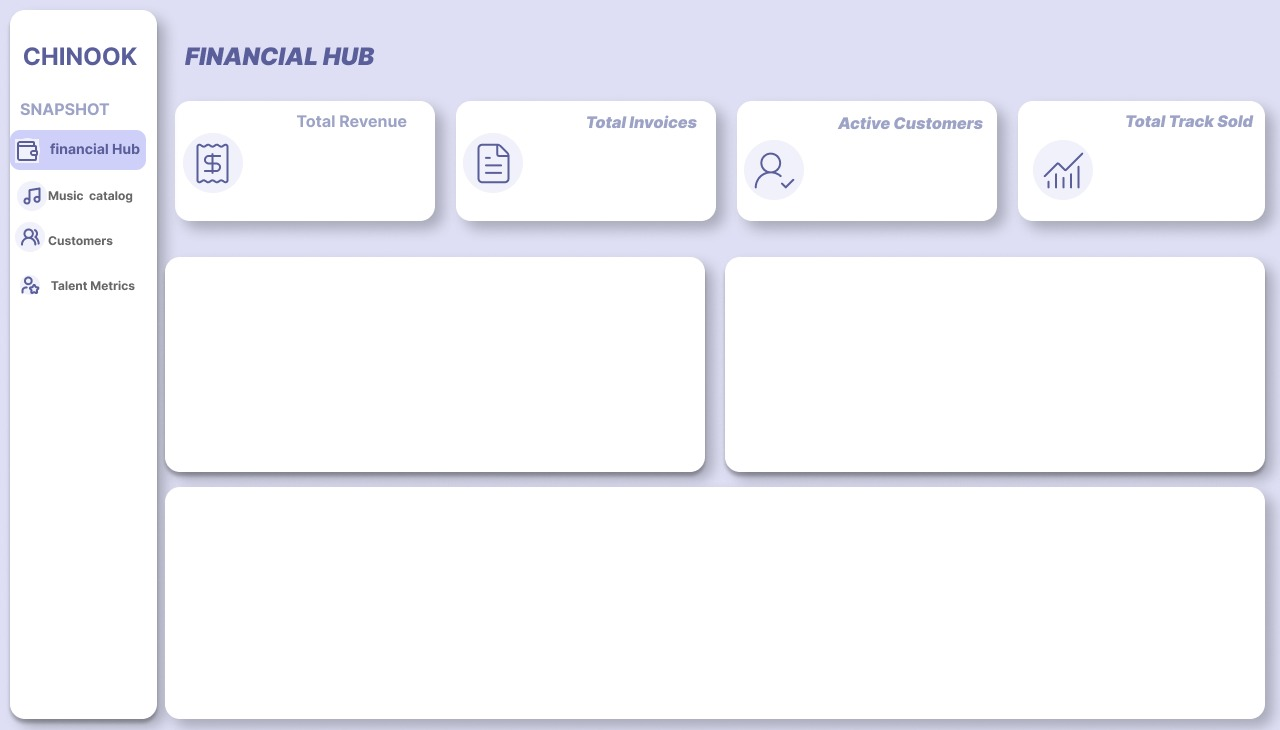

This screenshot's page, from the dashboard's own definition file:
{"tool":"powerbi","page":{"name":"Page 1","canvas":[1280,720],"ordinal":0},"visuals":[{"type":"cardVisual","fields":{"Data":["DAX.Total Customer"]},"box":[848.8,128.6,117.9,77.4],"z":0},{"type":"cardVisual","fields":{"Data":["DAX.Total Revenue"]},"box":[239.3,125,194,77.4],"z":1000},{"type":"cardVisual","fields":{"Data":["DAX.Total Invoices"]},"box":[556,131,114.3,69],"z":2000},{"type":"cardVisual","fields":{"Data":["DAX.Total Tracks Sold"]},"box":[1095.2,131,170.2,73.8],"z":3000},{"type":"columnChart","title":"Annual Revenue ","fields":{"Category":["invoice.Year"],"Y":["DAX.Annual Revenue"]},"box":[556,501.2,369,219],"z":5000},{"type":"textbox","box":[669.6,463.6,228.1,51.5],"z":6000},{"type":"donutChart","title":" Invoice Size Bucket","fields":{"Category":["invoice.Invoice Bucket"],"Y":["CountNonNull(invoice.InvoiceId)"]},"box":[734.5,254.8,517.9,204.8],"z":7000},{"type":"lineChart","title":"Total Revenue by Month ","fields":{"Y":["DAX.Total Revenue"],"Category":["invoice.Month Short"]},"box":[170.2,254.8,527.4,209.5],"z":11000},{"type":"slicer","fields":{"Values":["invoice.Year"]},"box":[1051.2,8.3,190.5,73.8],"z":12000}]}

Visuals, with their boxes on the page's 1280x720 design canvas (x1, y1, x2, y2). These are canvas units, not pixel positions in the 1280x730 screenshot, which may show the page scaled, cropped or inside an application window:
cardVisual - DAX.Total Customer: 849,129,967,206
cardVisual - DAX.Total Revenue: 239,125,433,202
cardVisual - DAX.Total Invoices: 556,131,670,200
cardVisual - DAX.Total Tracks Sold: 1095,131,1265,205
"Annual Revenue " columnChart: 556,501,925,720
textbox: 670,464,898,515
" Invoice Size Bucket" donutChart: 734,255,1252,460
"Total Revenue by Month " lineChart: 170,255,698,464
slicer - invoice.Year: 1051,8,1242,82
